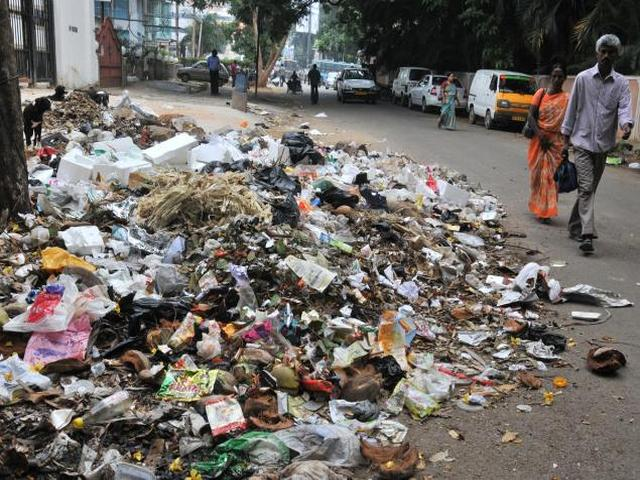garbage: (55, 104, 331, 470), (338, 169, 454, 376)
